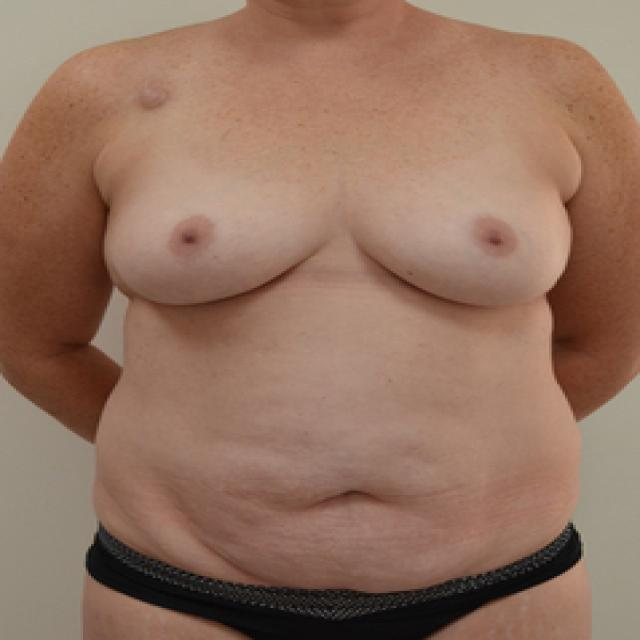Seno ileso: (96, 158, 340, 316), (347, 160, 579, 316)
